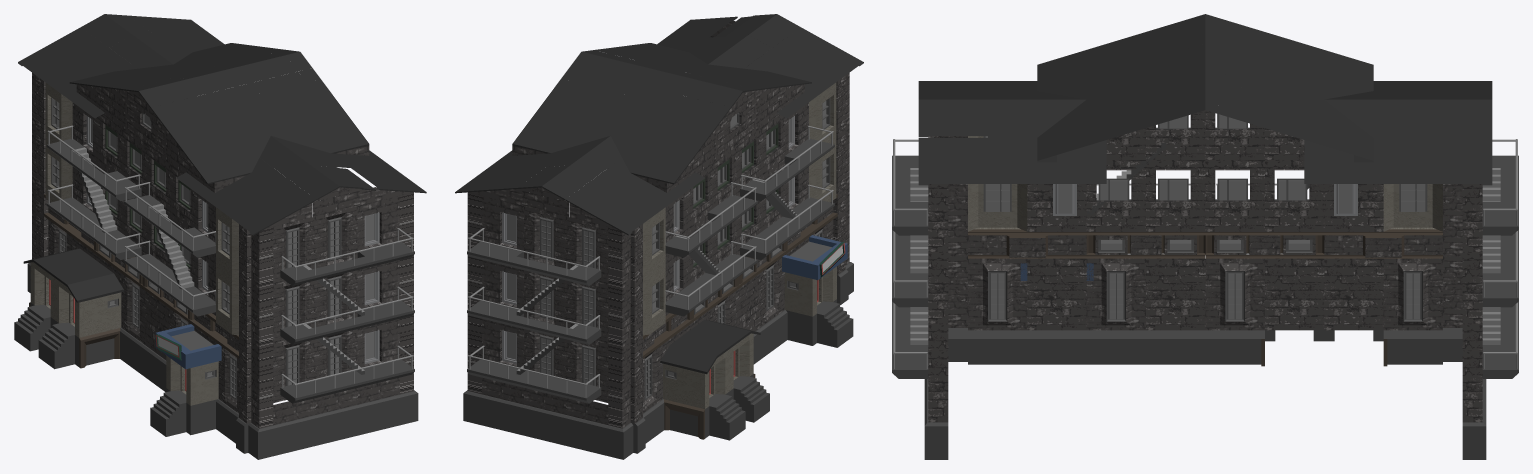
Rendered from CLINIC.fbx.
3 renders of one model, left to right at view 1: azimuth 30°, elevation 25°; view 2: azimuth 150°, elevation 25°; view 3: azimuth 270°, elevation 25°, orthographic. The views are drawn at different scales.
Visible parts, largest first — view 1: Plane.887, Plane.883, Plane.950, Plane.989, Plane.891, Plane.1004, Plane.935, Plane.973, Plane.1005, Plane.1049, Plane.933, Plane.968 (+96 smaller); view 2: Plane.887, Plane.883, Plane.932, Plane.962, Plane.930, Plane.973, Plane.935, Plane.966, Plane.967, Plane.968, Plane.933, Plane.1017 (+97 smaller); view 3: Plane.895, Plane.898, Plane.901, Plane.897, Plane.902, Plane.900, Plane.894, Plane.885, Plane.888, Plane.899, Plane.938, Plane.913 (+84 smaller).
Boxes of the visible parts, x1,y1,x2,y2 form: Plane.887: (14, 248, 123, 369); Plane.883: (150, 324, 221, 436); Plane.950: (280, 345, 414, 403); Plane.989: (280, 228, 414, 285); Plane.891: (280, 286, 414, 344); Plane.1004: (315, 206, 357, 268); Plane.935: (124, 240, 215, 316); Plane.973: (46, 184, 141, 259); Plane.1005: (273, 216, 315, 285); Plane.1049: (183, 139, 253, 184); Plane.933: (124, 182, 215, 257); Plane.968: (46, 125, 141, 201); Plane.887: (660, 320, 769, 440); Plane.883: (782, 235, 853, 347); Plane.932: (467, 345, 601, 403); Plane.962: (467, 228, 601, 285); Plane.930: (467, 286, 601, 344); Plane.973: (665, 241, 757, 316); Plane.935: (740, 184, 834, 259); Plane.966: (524, 206, 566, 268); Plane.967: (566, 216, 608, 285); Plane.968: (665, 182, 757, 257); Plane.933: (740, 125, 834, 201); Plane.1017: (627, 138, 698, 184); Plane.895: (1146, 258, 1205, 330); Plane.898: (1027, 258, 1086, 330); Plane.901: (1324, 258, 1383, 330); Plane.897: (1205, 258, 1264, 330); Plane.902: (1383, 258, 1442, 330); Plane.900: (1265, 258, 1324, 330); Plane.894: (1086, 258, 1145, 330); Plane.885: (968, 258, 1027, 330); Plane.888: (968, 229, 1086, 258); Plane.899: (1324, 229, 1442, 258); Plane.938: (1205, 160, 1264, 231); Plane.913: (1146, 160, 1205, 231).
Size of the model in its own units: 1606 by 1941 by 3168.
